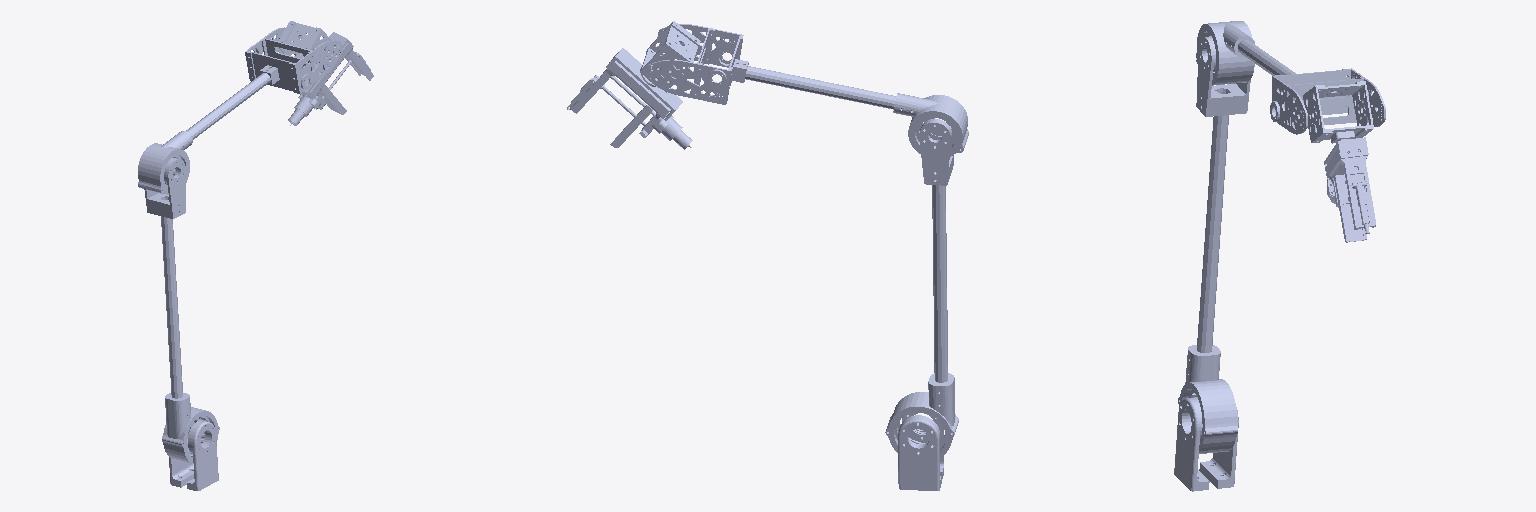
The robot description file, URDF, robot "oden":
<?xml version="1.0" encoding="utf-8"?>
<!-- This URDF was automatically created by SolidWorks to URDF Exporter! Originally created by Stephen Brawner (brawner@gmail.com) 
     Commit Version: 1.6.1-11-gaed57c3-dirty  Build Version: 1.6.9301.26718
     For more information, please see http://wiki.ros.org/sw_urdf_exporter -->
<robot
  name="oden">
  <link
    name="base_link">
    <inertial>
      <origin
        xyz="-7.2424E-18 0.076383 2.7756E-17"
        rpy="0 0 0" />
      <mass
        value="0.45816" />
      <inertia
        ixx="0.0013817"
        ixy="-5.7254E-20"
        ixz="-4.9545E-10"
        iyy="0.00035002"
        iyz="-2.0753E-19"
        izz="0.0016598" />
    </inertial>
    <visual>
      <origin
        xyz="0.03 0.06 -0.21"
        rpy="1.5 0 0.4" />
      <geometry>
        <mesh
          filename="package://meshes/base_link.STL" />
      </geometry>
      <material
        name="">
        <color
          rgba="0.79216 0.81961 0.93333 1" />
      </material>
    </visual>
    <collision>
      <origin
        xyz="0 0 0"
        rpy="0 0 0" />
      <geometry>
        <mesh
          filename="package://meshes/base_link.STL" />
      </geometry>
    </collision>
  </link>
  <link
    name="dof1">
    <inertial>
      <origin
        xyz="0.30186 0.07402 -0.030304"
        rpy="0 0 0" />
      <mass
        value="0.77232" />
      <inertia
        ixx="0.00094982"
        ixy="-6.0782E-12"
        ixz="0.00036088"
        iyy="0.0052384"
        iyz="6.3841E-12"
        izz="0.0044394" />
    </inertial>
    <visual>
      <origin
        xyz="0 0 0"
        rpy="0 0 0" />
      <geometry>
        <mesh
          filename="package://meshes/dof1.STL" />
      </geometry>
      <material
        name="">
        <color
          rgba="0.79216 0.81961 0.93333 1" />
      </material>
    </visual>
    <collision>
      <origin
        xyz="0 0 0"
        rpy="0 0 0" />
      <geometry>
        <mesh
          filename="package://meshes/dof1.STL" />
      </geometry>
    </collision>
  </link>
  <joint
    name="dof1"
    type="revolute">
    <origin
      xyz="-0.0035457 0.13735 -0.07402"
      rpy="1.5708 -1.5 1.9332" />
    <parent
      link="base_link" />
    <child
      link="dof1" />
    <axis
      xyz="0 -1 0" />
    <limit
      lower="-1.57"
      upper="1.57"
      effort="300"
      velocity="3" />
  </joint>
  <link
    name="dof2">
    <inertial>
      <origin
        xyz="0.32861 0.06402 -0.026913"
        rpy="0 0 0" />
      <mass
        value="0.82329" />
      <inertia
        ixx="0.001242"
        ixy="-6.685E-11"
        ixz="0.00012754"
        iyy="0.0028852"
        iyz="-2.2476E-06"
        izz="0.0026947" />
    </inertial>
    <visual>
      <origin
        xyz="0 0 0"
        rpy="0 0 0" />
      <geometry>
        <mesh
          filename="package://meshes/dof2.STL" />
      </geometry>
      <material
        name="">
        <color
          rgba="0.79216 0.81961 0.93333 1" />
      </material>
    </visual>
    <collision>
      <origin
        xyz="0 0 0"
        rpy="0 0 0" />
      <geometry>
        <mesh
          filename="package://meshes/dof2.STL" />
      </geometry>
    </collision>
  </link>
  <joint
    name="dof2"
    type="revolute">
    <origin
      xyz="0.73702 0.01 -0.042971"
      rpy="0 -1.4182 0" />
    <parent
      link="dof1" />
    <child
      link="dof2" />
    <axis
      xyz="0 -1 0" />
    <limit
      lower="-1.57"
      upper="1.57"
      effort="200"
      velocity="3" />
  </joint>
  <link
    name="dof3">
    <inertial>
      <origin
        xyz="-0.05225 -0.0072713 1.3989E-14"
        rpy="0 0 0" />
      <mass
        value="0.13026" />
      <inertia
        ixx="0.00013679"
        ixy="1.5711E-08"
        ixz="1.7391E-20"
        iyy="0.00010693"
        iyz="5.4549E-19"
        izz="0.00012318" />
    </inertial>
    <visual>
      <origin
        xyz="0 0 0"
        rpy="0 0 0" />
      <geometry>
        <mesh
          filename="package://meshes/dof3.STL" />
      </geometry>
      <material
        name="">
        <color
          rgba="0.79216 0.81961 0.93333 1" />
      </material>
    </visual>
    <collision>
      <origin
        xyz="0 0 0"
        rpy="0 0 0" />
      <geometry>
        <mesh
          filename="package://meshes/dof3.STL" />
      </geometry>
    </collision>
  </link>
  <joint
    name="dof3"
    type="revolute">
    <origin
      xyz="0.60489 0.01177 -0.029275"
      rpy="1.0603 0 -1.5708" />
    <parent
      link="dof2" />
    <child
      link="dof3" />
    <axis
      xyz="-1 0 0" />
    <limit
      lower="-1.57"
      upper="1.57"
      effort="200"
      velocity="3" />
  </joint>
  <link
    name="dof4">
    <inertial>
      <origin
        xyz="-0.016027 -0.0098686 0.13861"
        rpy="0 0 0" />
      <mass
        value="0.61112" />
      <inertia
        ixx="0.00067154"
        ixy="-9.4163E-08"
        ixz="-5.6131E-05"
        iyy="0.0011177"
        iyz="-4.8929E-07"
        izz="0.00068431" />
    </inertial>
    <visual>
      <origin
        xyz="0 0 0"
        rpy="0 0 0" />
      <geometry>
        <mesh
          filename="package://meshes/dof4.STL" />
      </geometry>
      <material
        name="">
        <color
          rgba="0.79216 0.81961 0.93333 1" />
      </material>
    </visual>
    <collision>
      <origin
        xyz="0 0 0"
        rpy="0 0 0" />
      <geometry>
        <mesh
          filename="package://meshes/dof4.STL" />
      </geometry>
    </collision>
  </link>
  <joint
    name="dof4"
    type="revolute">
    <origin
      xyz="-0.062095 -0.022028 0.0017515"
      rpy="1.5708 1.3947 -3.1416" />
    <parent
      link="dof3" />
    <child
      link="dof4" />
    <axis
      xyz="0 0 1" />
    <limit
      lower="-3.142"
      upper="3.142"
      effort="200"
      velocity="3" />
  </joint>
</robot>

--- What the picture shows (computed from the rendered views, not written in the file) ---
3 views of the same robot in one strip: view 1: azimuth 30°, elevation 25°; view 2: azimuth 150°, elevation 25°; view 3: azimuth 270°, elevation 25° (orthographic).
Model oden with 5 links and 4 joints (4 revolute), rooted at base_link, posed all joints at 0.
Links seen in each view (by area): view 1: dof2, dof1, base_link, dof4, dof3; view 2: dof2, dof1, dof4, base_link, dof3; view 3: dof1, dof2, dof4, base_link, dof3.
Link boxes in pixels (x1,y1,x2,y2): dof2: [138, 27, 342, 194]; dof1: [144, 158, 219, 463]; base_link: [169, 420, 218, 490]; dof4: [288, 32, 373, 125]; dof3: [278, 21, 332, 69]; dof2: [645, 24, 968, 156]; dof1: [885, 118, 958, 457]; dof4: [567, 48, 692, 149]; base_link: [898, 412, 943, 490]; dof3: [640, 21, 700, 92]; dof1: [1178, 36, 1250, 453]; dof2: [1196, 21, 1385, 134]; dof4: [1324, 137, 1375, 242]; base_link: [1174, 397, 1238, 491]; dof3: [1303, 81, 1373, 143].
Bounding box of the posed robot: 0.8412 × 0.4078 × 1.07 m (x, y, z).
Meshes: 5 distinct files referenced, 5 mesh visuals loaded (5 binary STL).
